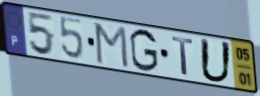5: (25, 10, 57, 57), (58, 14, 86, 62)
G: (128, 27, 160, 74)
M: (94, 21, 131, 71)
T: (170, 35, 196, 78)
U: (198, 36, 233, 85)
